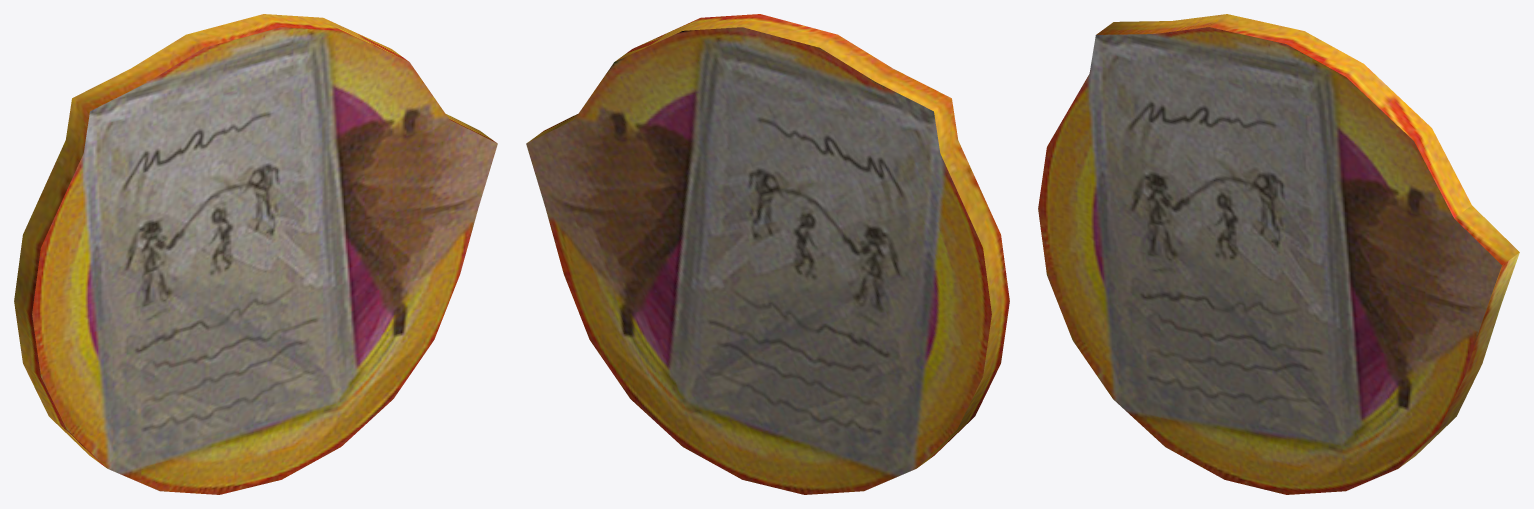
The model's file is moleque_bomb.FBX.
The picture shows the model from 3 angles, left to right: view 1: azimuth 30°, elevation 25°; view 2: azimuth 150°, elevation 25°; view 3: azimuth 330°, elevation 25°; orthographic projection.
Visible parts, largest first — view 1: Cylinder001; view 2: Cylinder001; view 3: Cylinder001.
Boxes of the visible parts, box(x1,y1,x2,y2) form: Cylinder001: box(14, 14, 497, 494); Cylinder001: box(526, 14, 1009, 494); Cylinder001: box(1038, 14, 1519, 494).
Size of the model in its own units: 128 by 8.55 by 119.
Materials: 1 (1 with a texture image).
